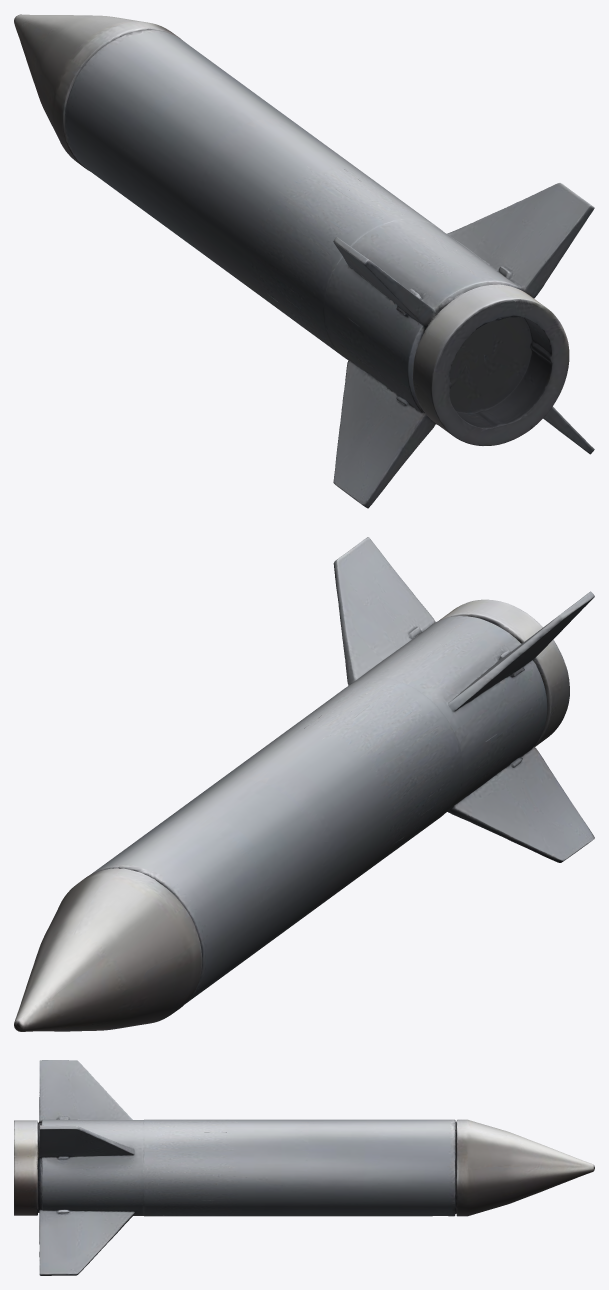
File: foguete.glb
3 renders of one model, top to bottom at view 1: azimuth 30°, elevation 25°; view 2: azimuth 150°, elevation 25°; view 3: azimuth 270°, elevation 25°, orthographic. The views are drawn at different scales.
Parts seen in each view (by area): view 1: tripo_node_6e3be52a-5a8b-4214-9d08-265477232ed0; view 2: tripo_node_6e3be52a-5a8b-4214-9d08-265477232ed0; view 3: tripo_node_6e3be52a-5a8b-4214-9d08-265477232ed0.
Boxes of the visible parts, <box> form: tripo_node_6e3be52a-5a8b-4214-9d08-265477232ed0: <box>14,14,594,508</box>; tripo_node_6e3be52a-5a8b-4214-9d08-265477232ed0: <box>14,537,594,1031</box>; tripo_node_6e3be52a-5a8b-4214-9d08-265477232ed0: <box>14,1060,594,1275</box>.
Bounding box in the file's own units: 0.2761 × 0.2851 × 0.9992.
Materials: 1 (1 with a texture image).
